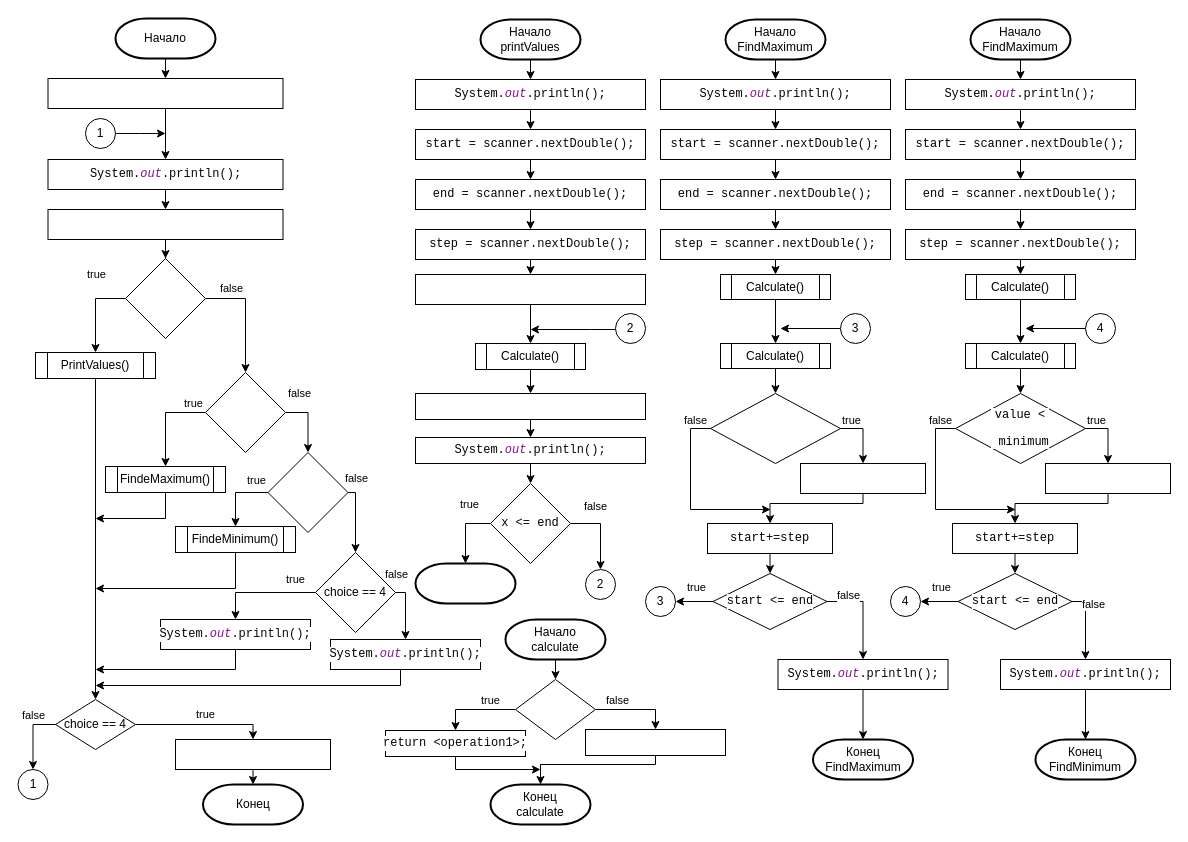
The diagram is 1188 pixels wide and 842 high, and some of its shapes have lost their labels. Here are the shapes that lost their labels. From the top down, the centre of each, then its label:
At [165,93]: "scanner = new Scanner();".
At [165,224]: "choice = scanner .nextInt();".
At [165,298]: "choice == 1".
At [530,289]: "x = start".
At [245,412]: "choice == 2".
At [530,406]: "x += step".
At [775,428]: "value > maximum".
At [307,492]: "choice == 3".
At [863,478]: "maximum = value".
At [1107,478]: "minimum = value".
At [465,583]: "Конец printValues()".
At [555,709]: "x < 20".
At [252,754]: "scanner .close();".
At [655,742]: "return <operation2>;".
